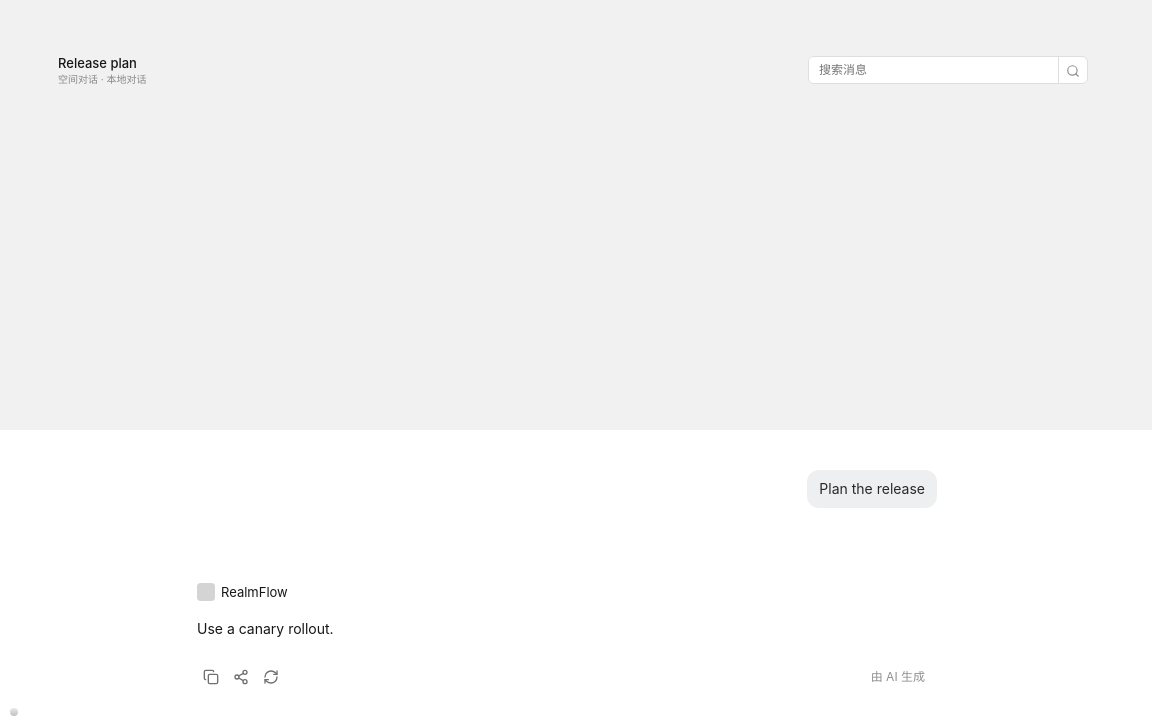
conversation image sharing › places share after copy and opens with the clicked response selected
(page scrolled)
What coordinates should you click on to do the following:
click the button named "分享回答"
I would click on:
 (241, 677)
Its box is [227, 663, 255, 691].
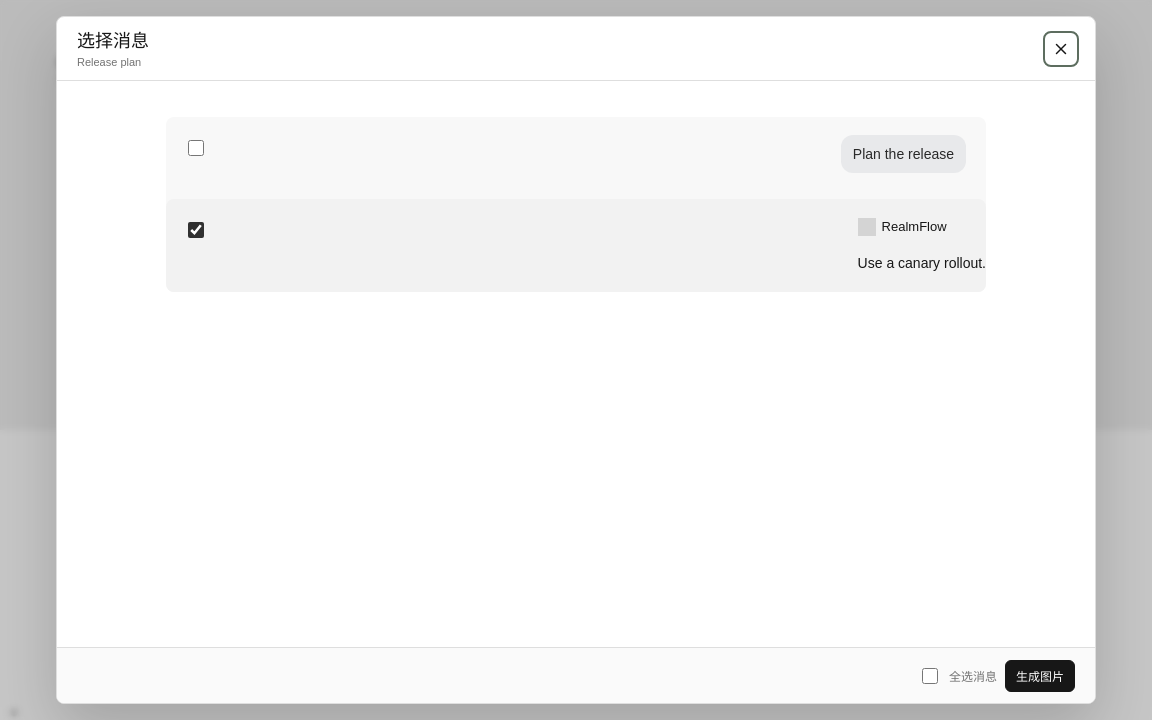
Expected: the dialog named "对话分享" is shown
Expected: the checkbox named "选择消息：Plan the release" is not checked, [188, 140, 204, 156]
Expected: the checkbox named "选择消息：Use a canary rollout." is checked, [188, 222, 204, 238]
